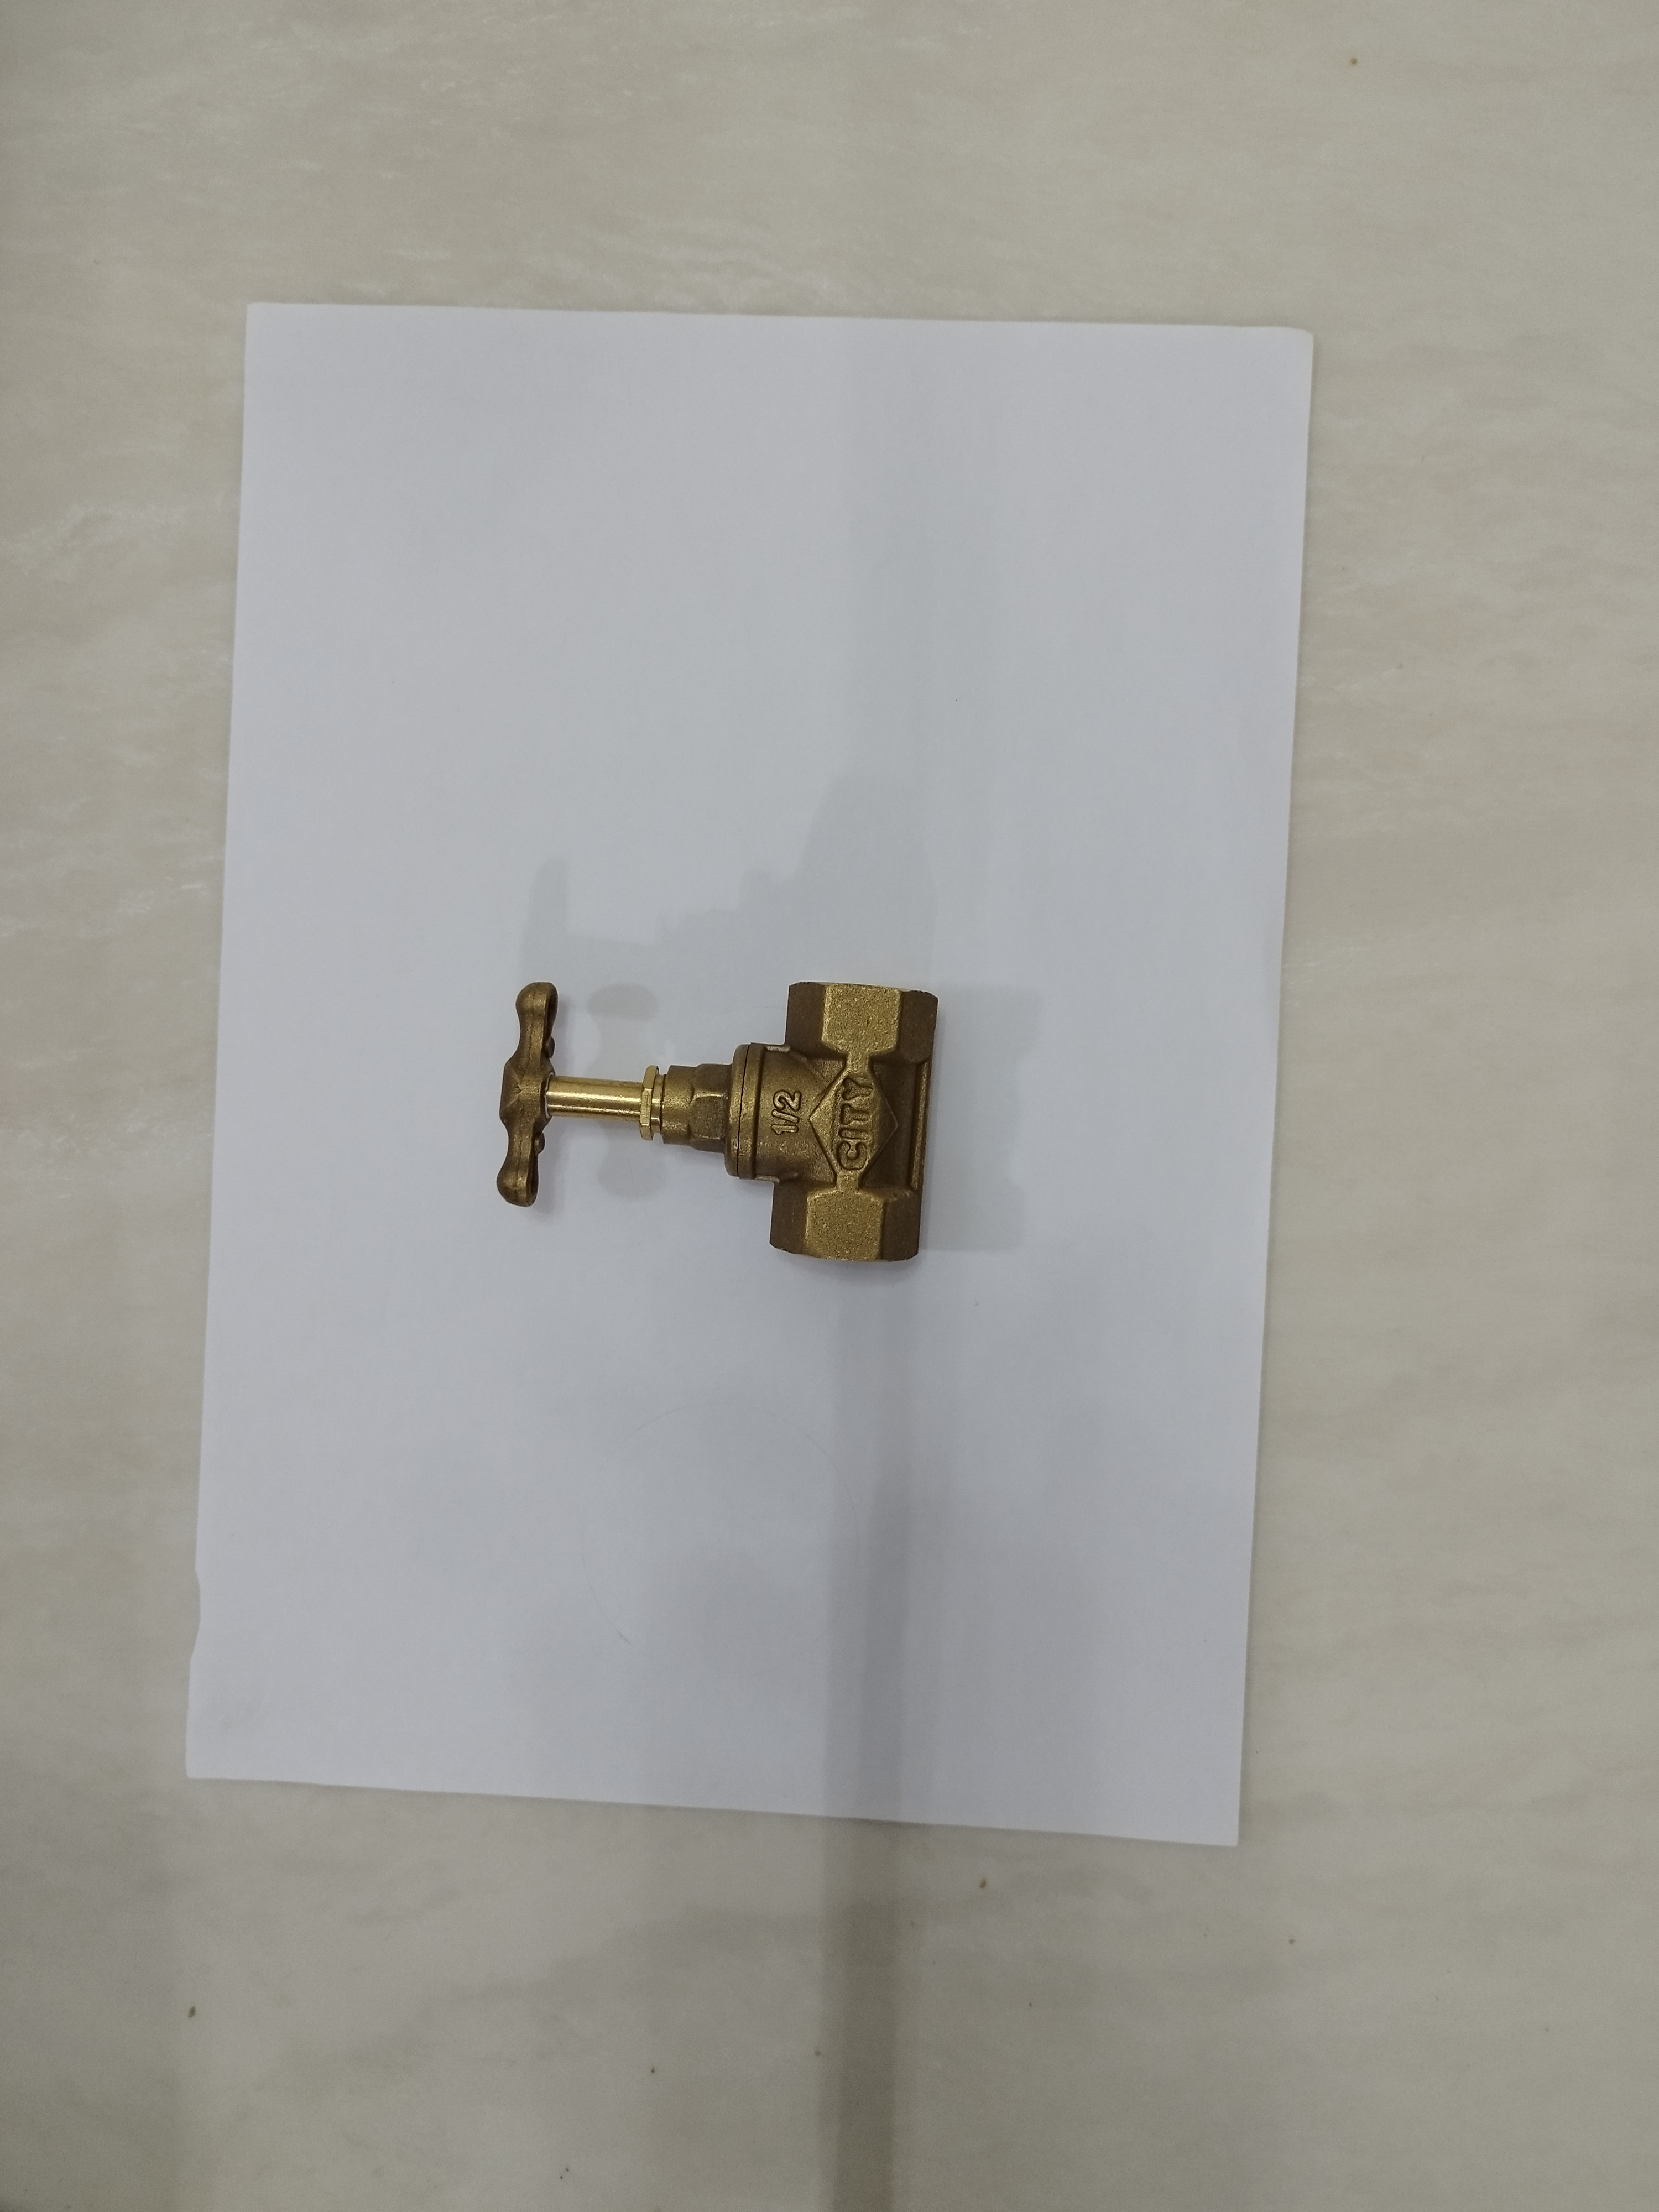brass_gate_valve: (457, 925, 972, 1298)
